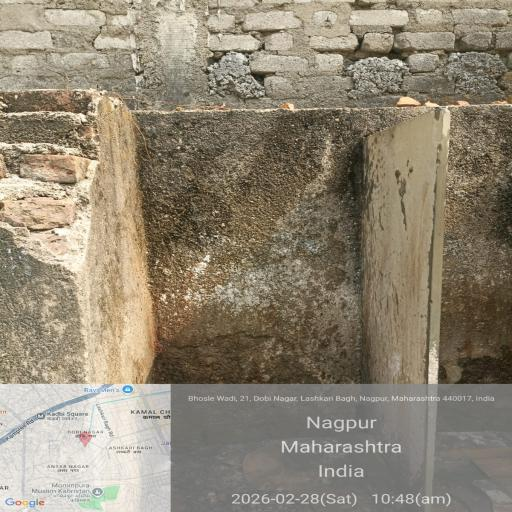partial_dirty_floor: (46, 54, 444, 478)
